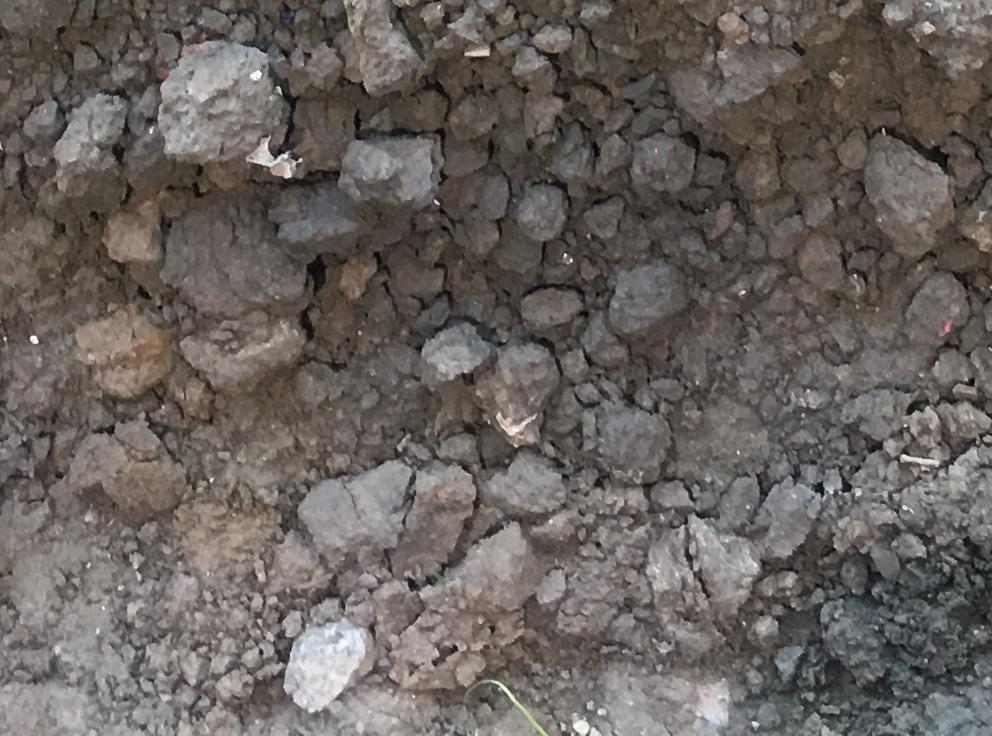block: (301, 456, 471, 584), (157, 39, 291, 163), (863, 130, 951, 256), (277, 614, 374, 710), (340, 135, 443, 215)
